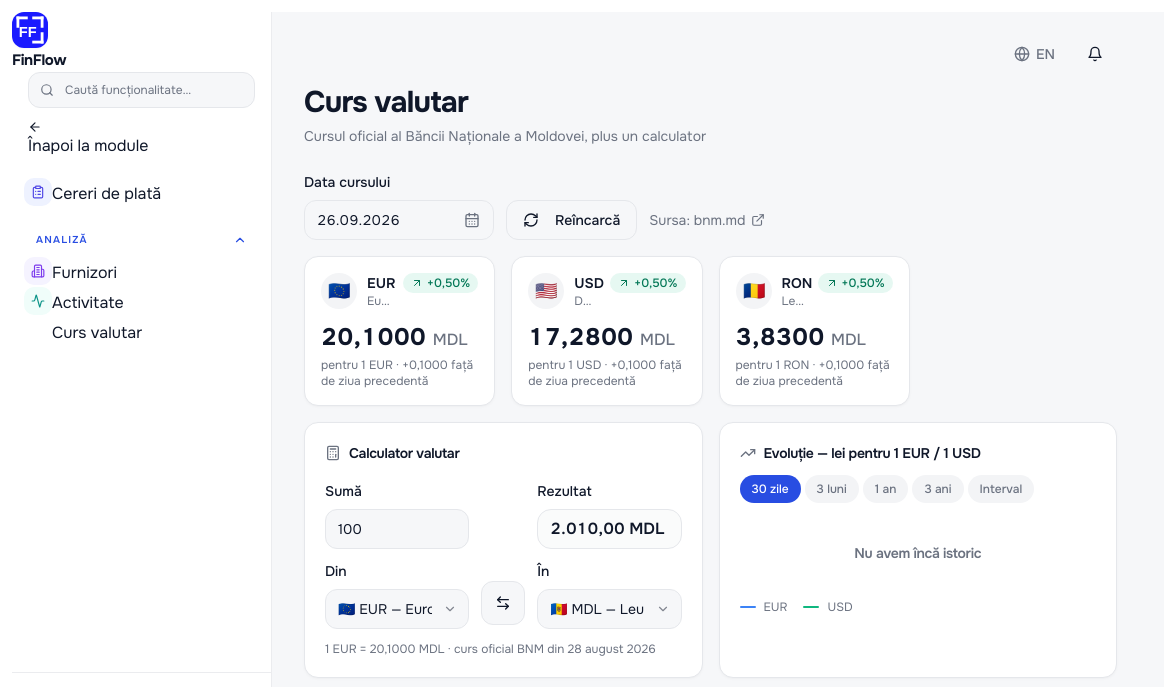
ParExchange › face cross-rate între două valute străine (EUR → USD, prin leu)
Select "🇺🇸 USD — Dolar S.U.A." in the dropdown labelled "În" at (609, 609), box [537,589,682,629]
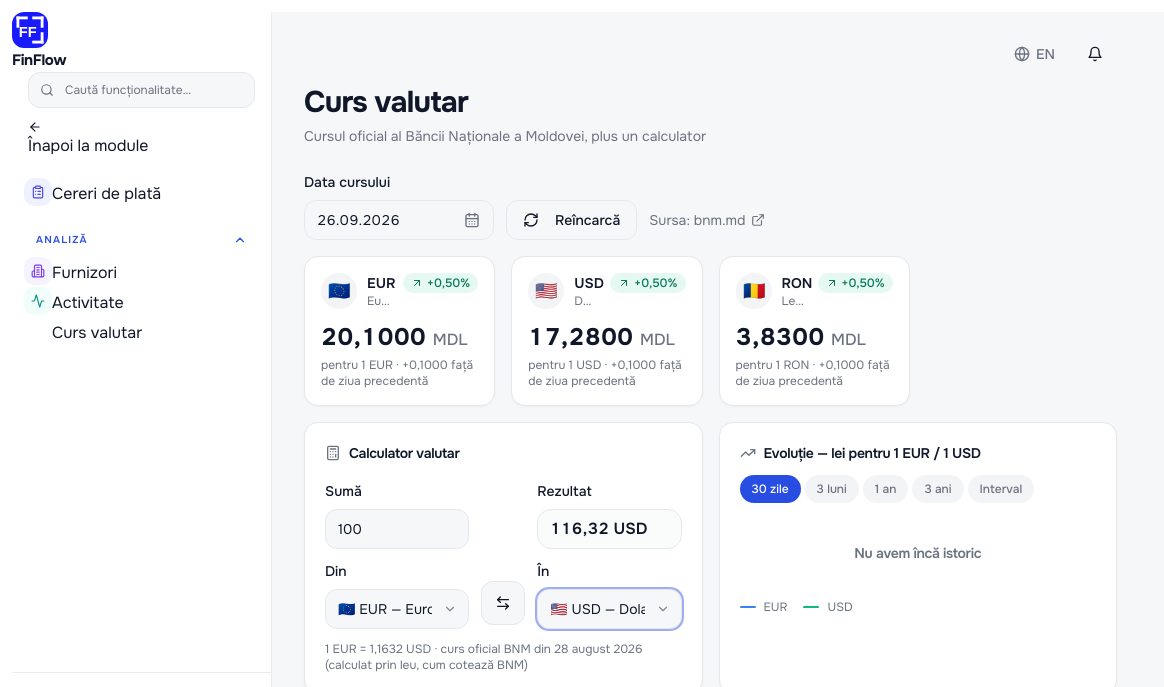
Check: the message reads "116,32 USD", box [550,518,648,539]
